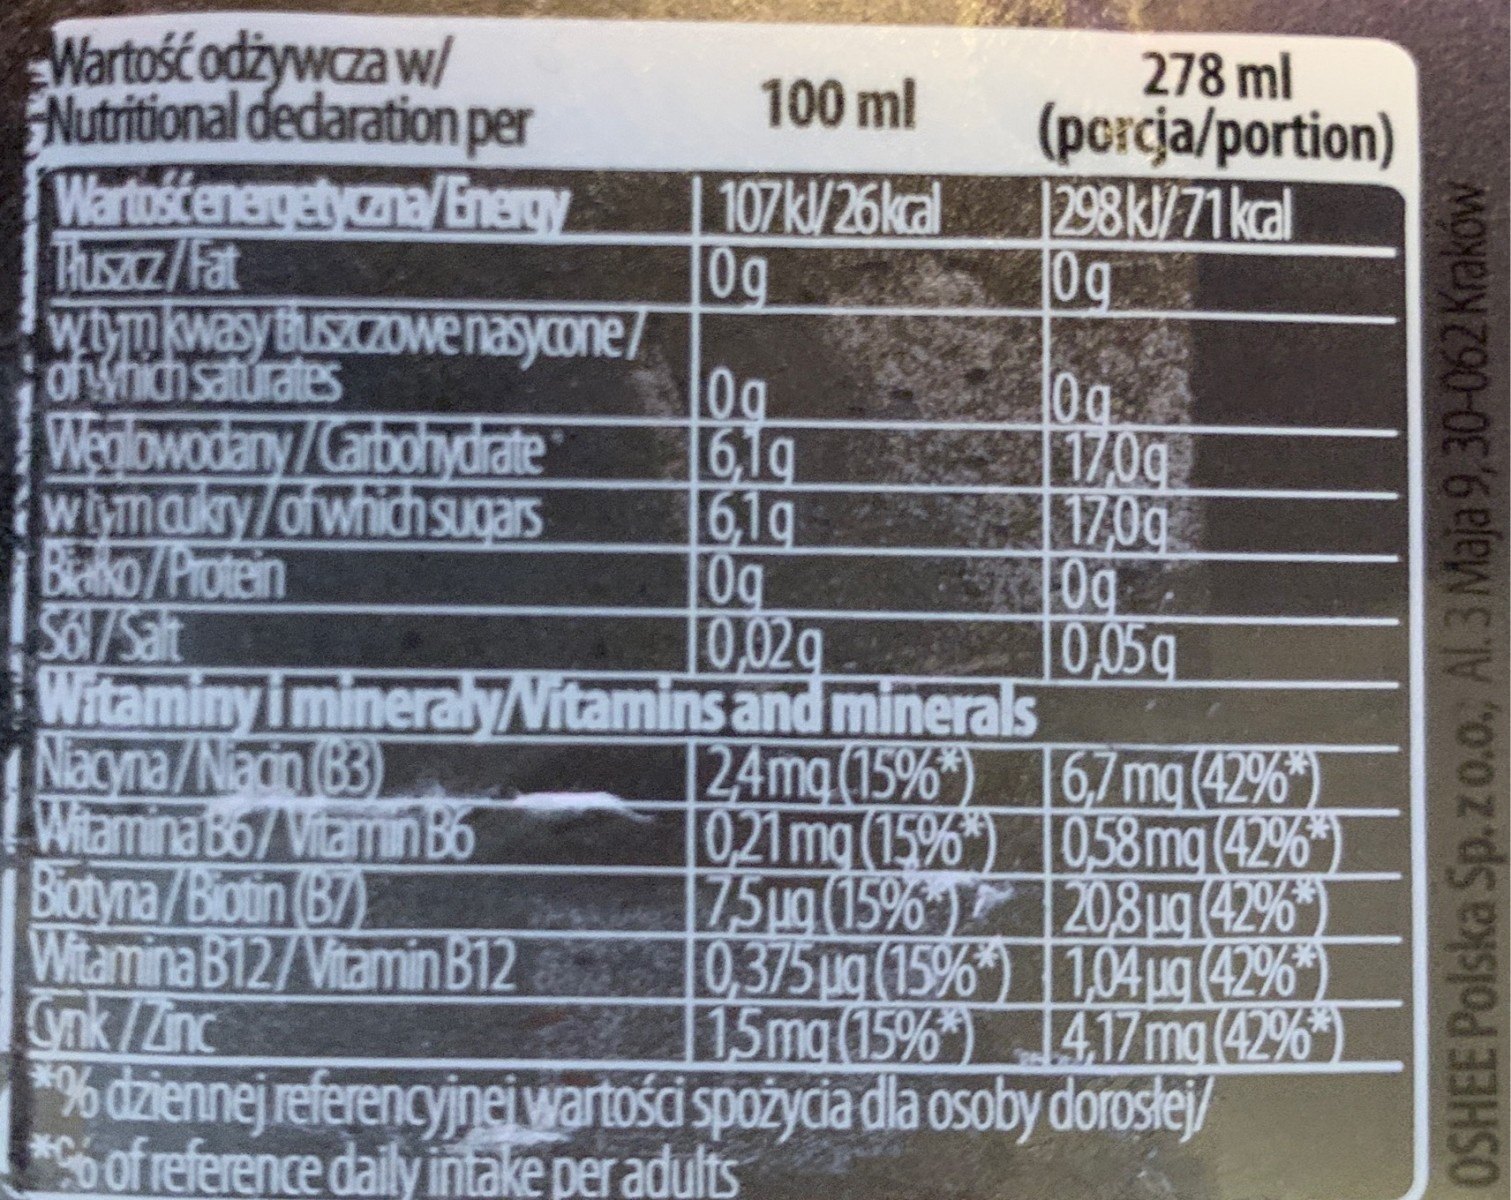column: (29, 32, 648, 664), (1038, 49, 1394, 679), (708, 74, 947, 670)
table: (22, 17, 1421, 679)
